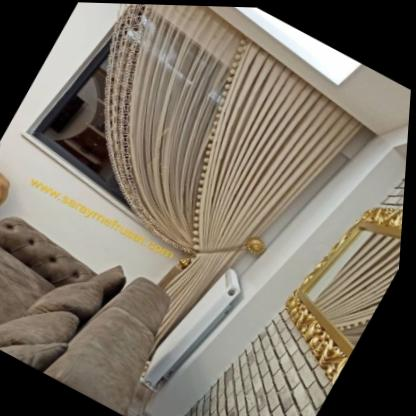Curtains: (104, 3, 362, 355)
Gypsum Board: (206, 5, 412, 133)
Sofa: (0, 179, 202, 416)
